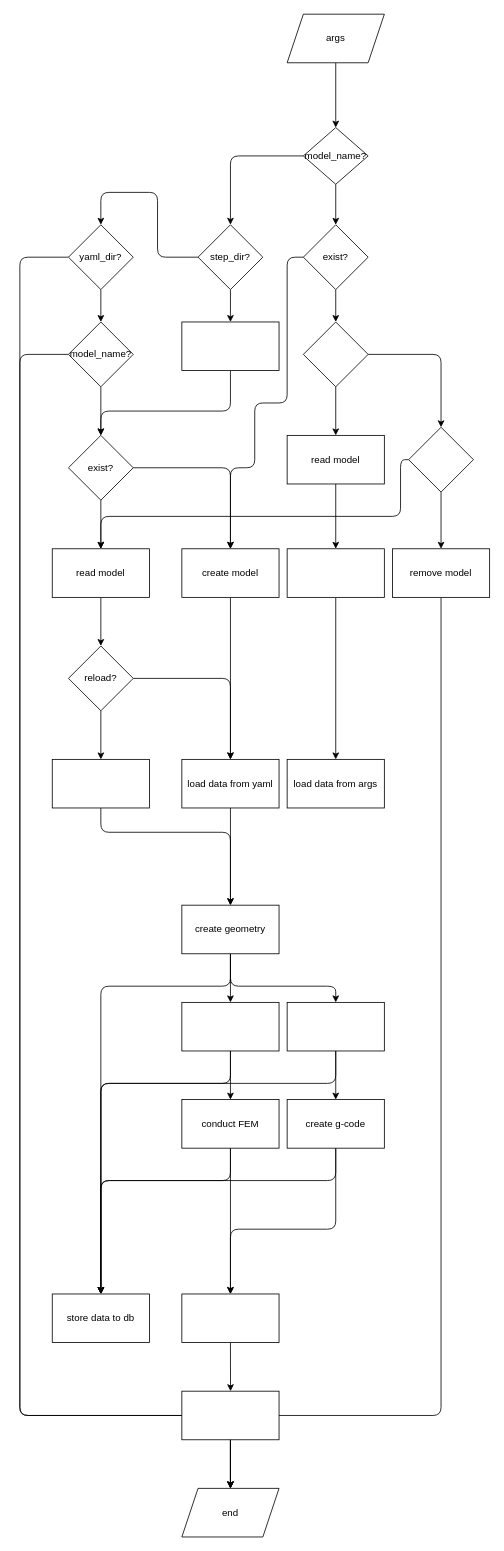
The diagram is 504 pixels wide and 1551 high, and some of its shapes have lost their labels. Each missing label, with the centre of its shape:
"create mesh" belongs at (230,1026).
"create slice" belongs at (335,1026).
"download files" belongs at (230,1415).
"edit?" belongs at (335,354).
"filename as model_name" belongs at (230,346).
"load data from db" belongs at (100,783).
"modify model" belongs at (335,572).
"remove?" belongs at (440,459).
"store files to db" belongs at (230,1318).
